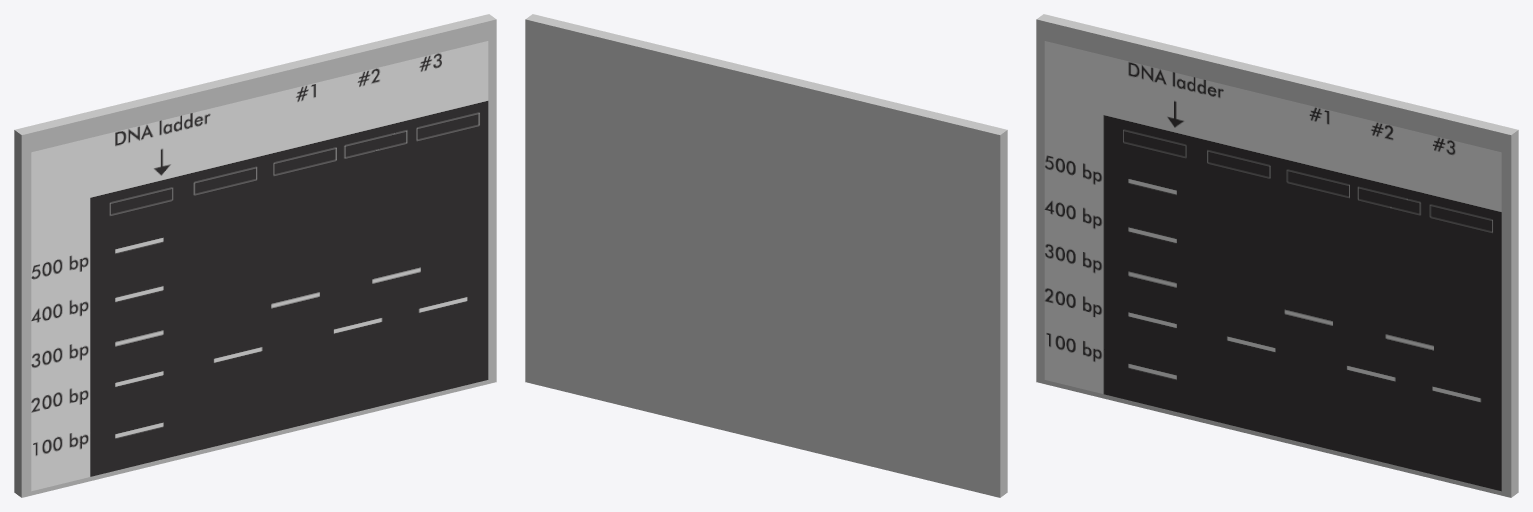
File: result.glb
3 views of the same model, side by side, from view 1: azimuth 30°, elevation 25°; view 2: azimuth 150°, elevation 25°; view 3: azimuth 330°, elevation 25° (orthographic).
Parts seen in each view (by area): view 1: dda, Plane.004; view 2: Plane.004; view 3: dda, Plane.004.
Boxes of the visible parts, bbox=[...] form: dda: bbox=[31, 41, 488, 491]; Plane.004: bbox=[14, 14, 496, 497]; Plane.004: bbox=[525, 14, 1007, 497]; dda: bbox=[1044, 41, 1501, 491]; Plane.004: bbox=[1036, 14, 1518, 497].
Size of the model in its own units: 5.89 by 4.3 by 0.1724.
2 materials, 1 textured.
